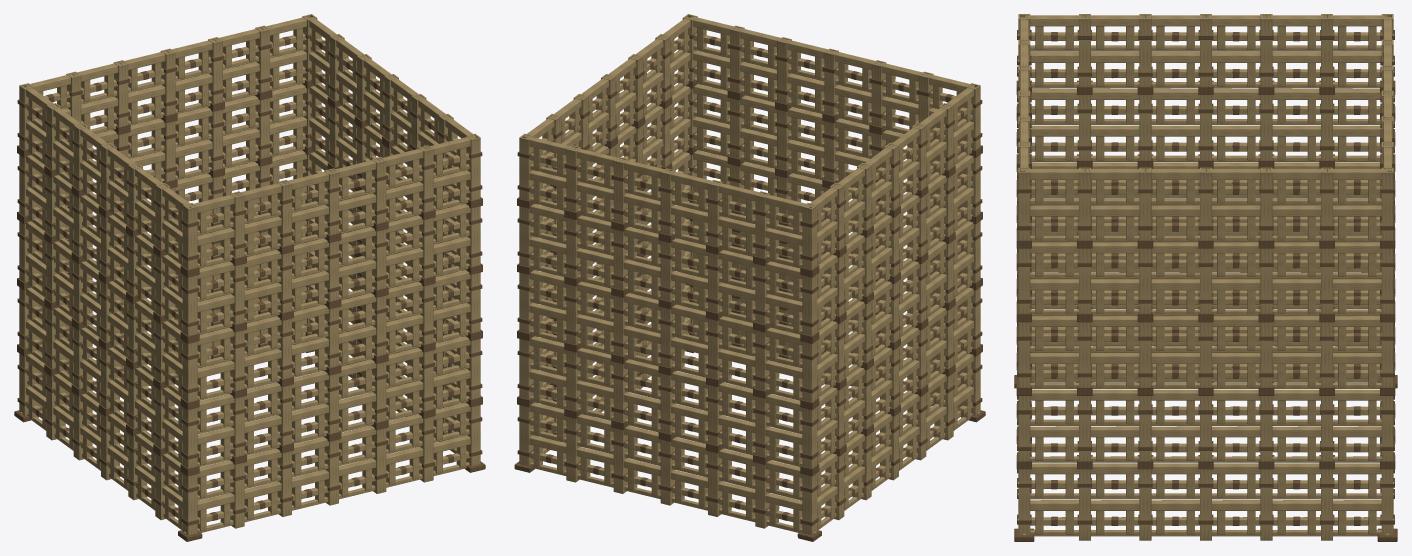
3 views of the same model, side by side, from view 1: azimuth 30°, elevation 25°; view 2: azimuth 150°, elevation 25°; view 3: azimuth 270°, elevation 25° (orthographic). The views are drawn at different scales.
Parts seen in each view (by area): view 1: Tier 4 side 0 post 0, Tier 0 side 0 post 0, Tier 1 side 0 post 0, Tier 2 side 0 post 0, Tier 3 side 0 post 0, Tier 4 side 0 post 4, Tier 0 side 0 post 4, Tier 4 side 2 post 3, Tier 0 side 0 post 5, Tier 0 side 0 post 1, Tier 4 side 0 post 5, Tier 4 side 1 post 0 (+30 smaller); view 2: Tier 4 side 3 post 0, Tier 0 side 3 post 0, Tier 1 side 3 post 0, Tier 2 side 3 post 0, Tier 3 side 3 post 0, Tier 4 side 2 post 3, Tier 0 side 2 post 3, Tier 4 side 2 post 2, Tier 0 side 2 post 2, Tier 0 side 2 post 1, Tier 4 side 0 post 3, Tier 0 side 2 post 5 (+30 smaller); view 3: Tier 0 side 1 post 2, Tier 0 side 1 post 4, Tier 4 side 1 post 2, Tier 4 side 1 post 4, Tier 4 side 1 post 0, Tier 4 side 2 post 0, Tier 4 side 3 post 2, Tier 4 side 3 post 4, Tier 0 side 1 post 1, Tier 0 side 1 post 3, Tier 0 side 1 post 5, Tier 0 side 1 post 0 (+117 smaller).
Part boxes in pixels (box(x1,y1,x2,y2)): Tier 4 side 0 post 0: box(182, 203, 197, 269); Tier 0 side 0 post 0: box(182, 473, 197, 535); Tier 1 side 0 post 0: box(182, 407, 197, 468); Tier 2 side 0 post 0: box(182, 341, 197, 402); Tier 3 side 0 post 0: box(182, 274, 197, 335); Tier 4 side 0 post 4: box(371, 157, 386, 223); Tier 0 side 0 post 4: box(372, 428, 386, 493); Tier 4 side 2 post 3: box(160, 48, 175, 115); Tier 0 side 0 post 5: box(419, 416, 433, 482); Tier 0 side 0 post 1: box(230, 462, 244, 528); Tier 4 side 0 post 5: box(418, 145, 433, 212); Tier 4 side 1 post 0: box(466, 133, 480, 200); Tier 4 side 3 post 0: box(802, 203, 817, 269); Tier 0 side 3 post 0: box(802, 473, 817, 535); Tier 1 side 3 post 0: box(802, 407, 817, 468); Tier 2 side 3 post 0: box(802, 340, 817, 402); Tier 3 side 3 post 0: box(802, 274, 817, 335); Tier 4 side 2 post 3: box(660, 168, 675, 235); Tier 0 side 2 post 3: box(660, 439, 675, 505); Tier 4 side 2 post 2: box(613, 157, 628, 223); Tier 0 side 2 post 2: box(613, 428, 627, 493); Tier 0 side 2 post 1: box(566, 416, 580, 482); Tier 4 side 0 post 3: box(824, 48, 838, 115); Tier 0 side 2 post 5: box(755, 462, 769, 528); Tier 0 side 1 post 2: box(1139, 469, 1151, 540); Tier 0 side 1 post 4: box(1260, 469, 1272, 540); Tier 4 side 1 post 2: box(1139, 167, 1151, 240); Tier 4 side 1 post 4: box(1260, 167, 1272, 240); Tier 4 side 1 post 0: box(1018, 167, 1030, 240); Tier 4 side 2 post 0: box(1381, 167, 1393, 240); Tier 4 side 3 post 2: box(1260, 14, 1272, 86); Tier 4 side 3 post 4: box(1139, 14, 1151, 86); Tier 0 side 1 post 1: box(1079, 469, 1090, 540); Tier 0 side 1 post 3: box(1200, 469, 1211, 540); Tier 0 side 1 post 5: box(1321, 469, 1332, 540); Tier 0 side 1 post 0: box(1018, 469, 1030, 535).
Bounding box in the file's own units: 2.85 × 3.02 × 2.85.
Materials: 2 (2 with a texture image).
